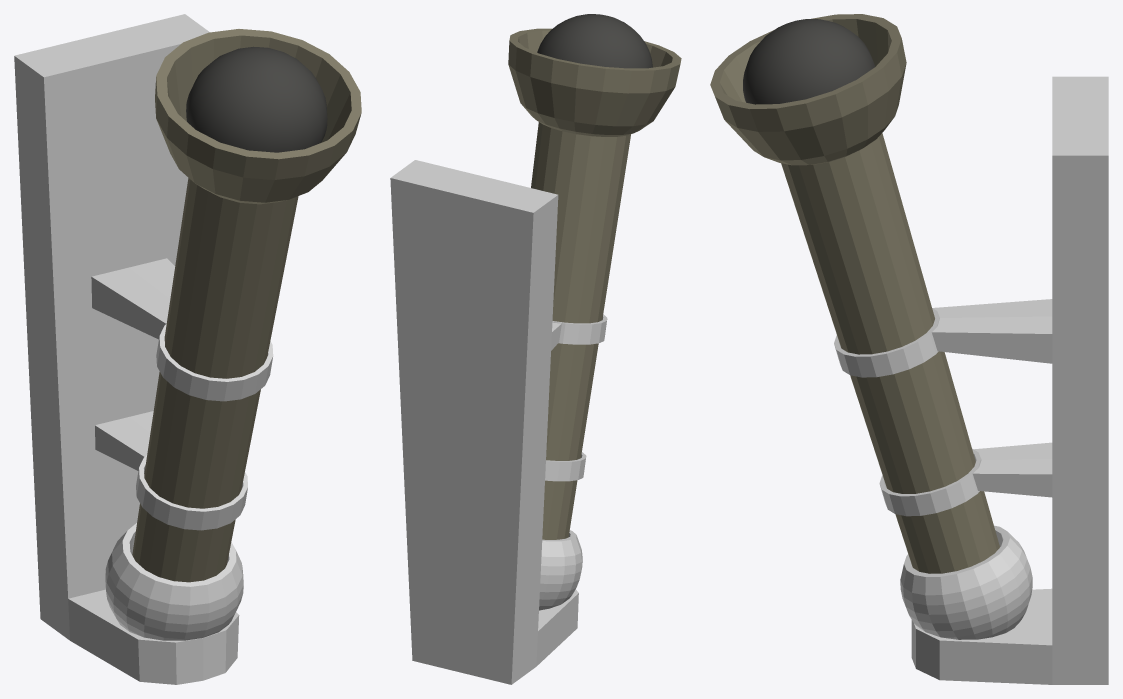
The model's file is torch holder w torch.fbx.
The picture shows the model from 3 angles, left to right: view 1: azimuth 30°, elevation 25°; view 2: azimuth 150°, elevation 25°; view 3: azimuth 270°, elevation 25°; orthographic projection. The views are drawn at different scales.
Parts seen in each view (by area): view 1: pSphere4; view 2: pSphere4; view 3: pSphere4.
Boxes of the visible parts, x1,y1,x2,y2 form: pSphere4: (14, 14, 361, 684); pSphere4: (390, 14, 681, 684); pSphere4: (710, 14, 1108, 684).
Size of the model in its own units: 3.77 by 13.25 by 7.57.
